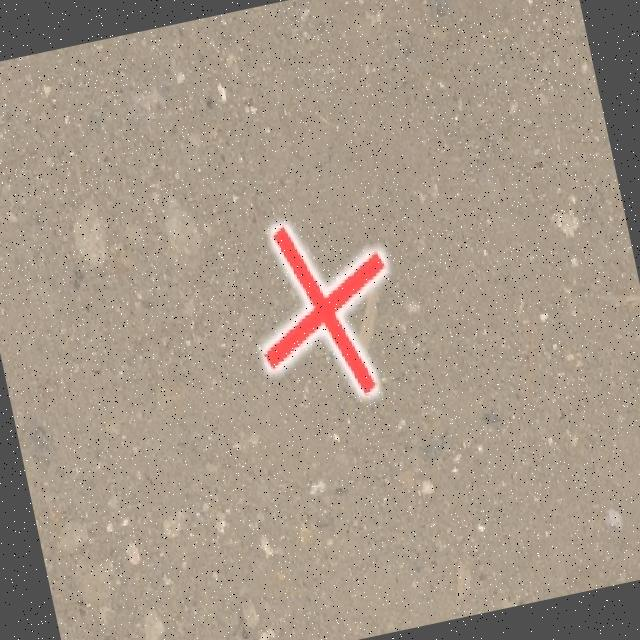x_marker: (240, 208, 408, 410)
